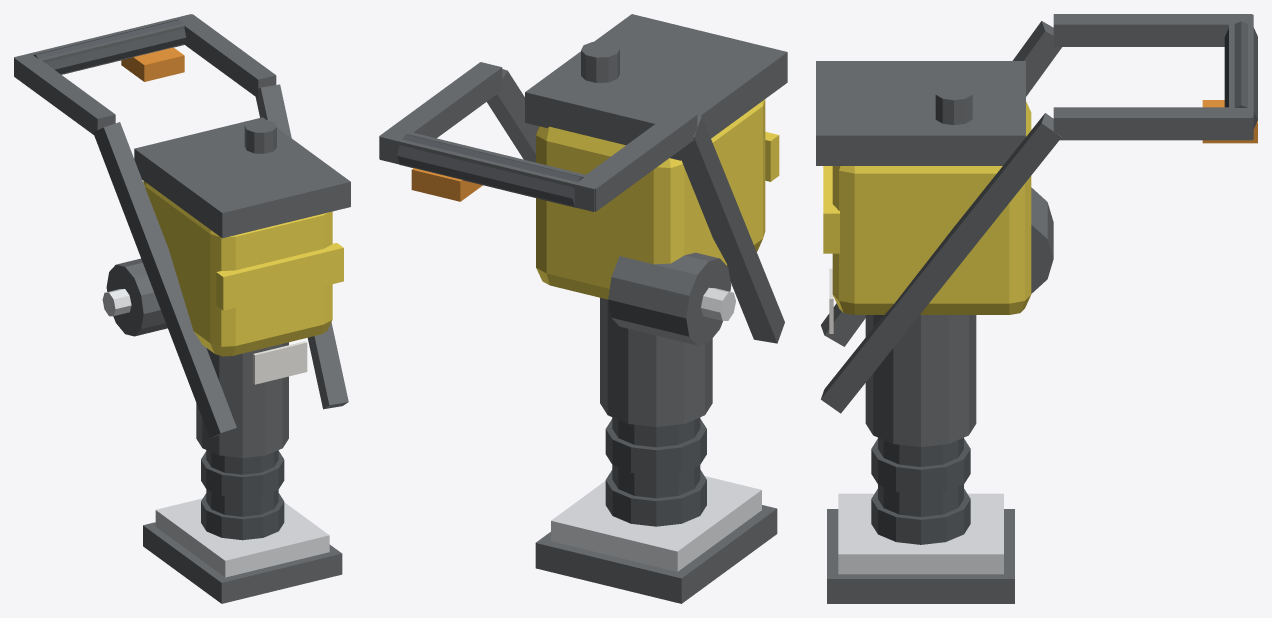
The model's file is tool-hire-depot-and-plant-yard-tool-hire-depot-and-pla-ba49fddd__35328.glb.
The picture shows the model from 3 angles, left to right: view 1: azimuth 30°, elevation 25°; view 2: azimuth 150°, elevation 25°; view 3: azimuth 270°, elevation 25°; orthographic projection. The views are drawn at different scales.
Parts seen in each view (by area): view 1: tool-hire-depot-and-plant-yard-trench-rammer; view 2: tool-hire-depot-and-plant-yard-trench-rammer; view 3: tool-hire-depot-and-plant-yard-trench-rammer.
Boxes of the visible parts, x1=… form: tool-hire-depot-and-plant-yard-trench-rammer: x1=14, y1=14, x2=350, y2=603; tool-hire-depot-and-plant-yard-trench-rammer: x1=379, y1=14, x2=787, y2=603; tool-hire-depot-and-plant-yard-trench-rammer: x1=816, y1=14, x2=1257, y2=603.
Size of the model in its own units: 0.4649 by 1.01 by 0.8.
